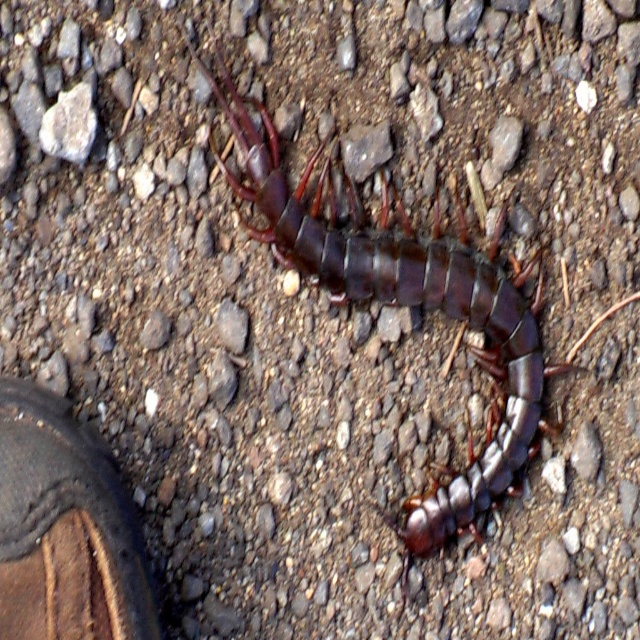Centipede: (186, 18, 589, 597)
